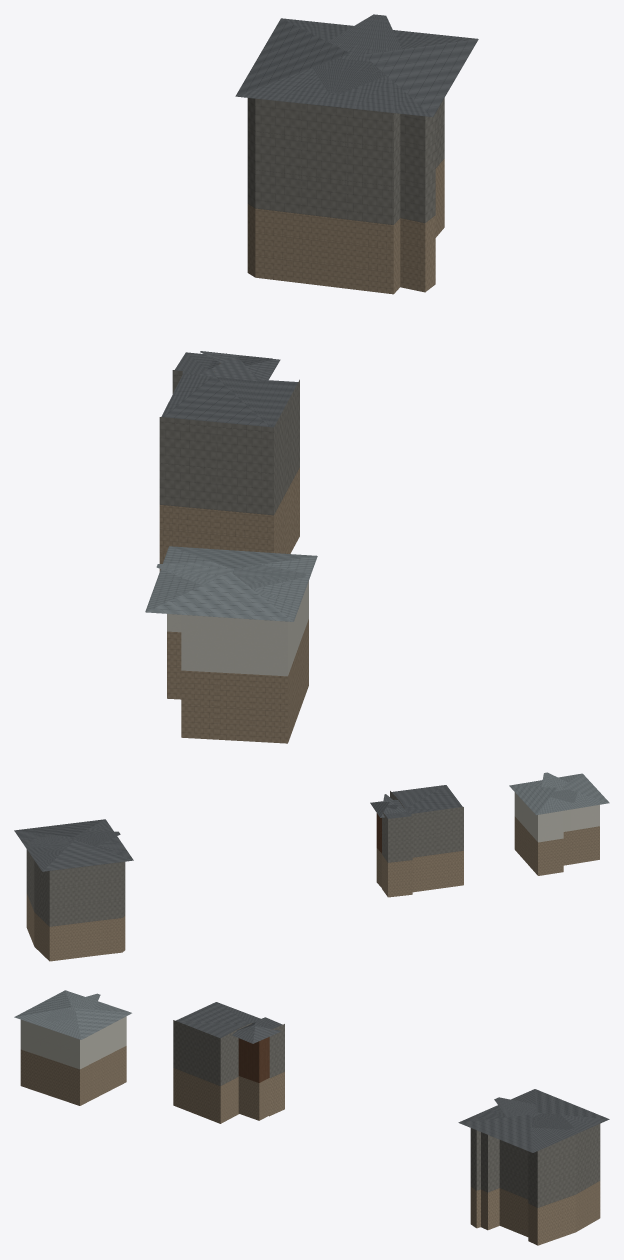
File: bld_c32_-40_449.gltf
The picture shows the model from 3 angles, top to bottom: view 1: azimuth 30°, elevation 25°; view 2: azimuth 150°, elevation 25°; view 3: azimuth 270°, elevation 25°; orthographic projection. The views are drawn at different scales.
Parts seen in each view (by area): view 1: bld_c32_-40_449; view 2: bld_c32_-40_449; view 3: bld_c32_-40_449.
Boxes of the visible parts, x1=… form: bld_c32_-40_449: x1=145, y1=14, x2=478, y2=743; bld_c32_-40_449: x1=14, y1=772, x2=609, y2=961; bld_c32_-40_449: x1=14, y1=990, x2=609, y2=1245.
Size of the model in its own units: 58.84 by 15.7 by 73.04.
Materials: 7 (7 with a texture image).
